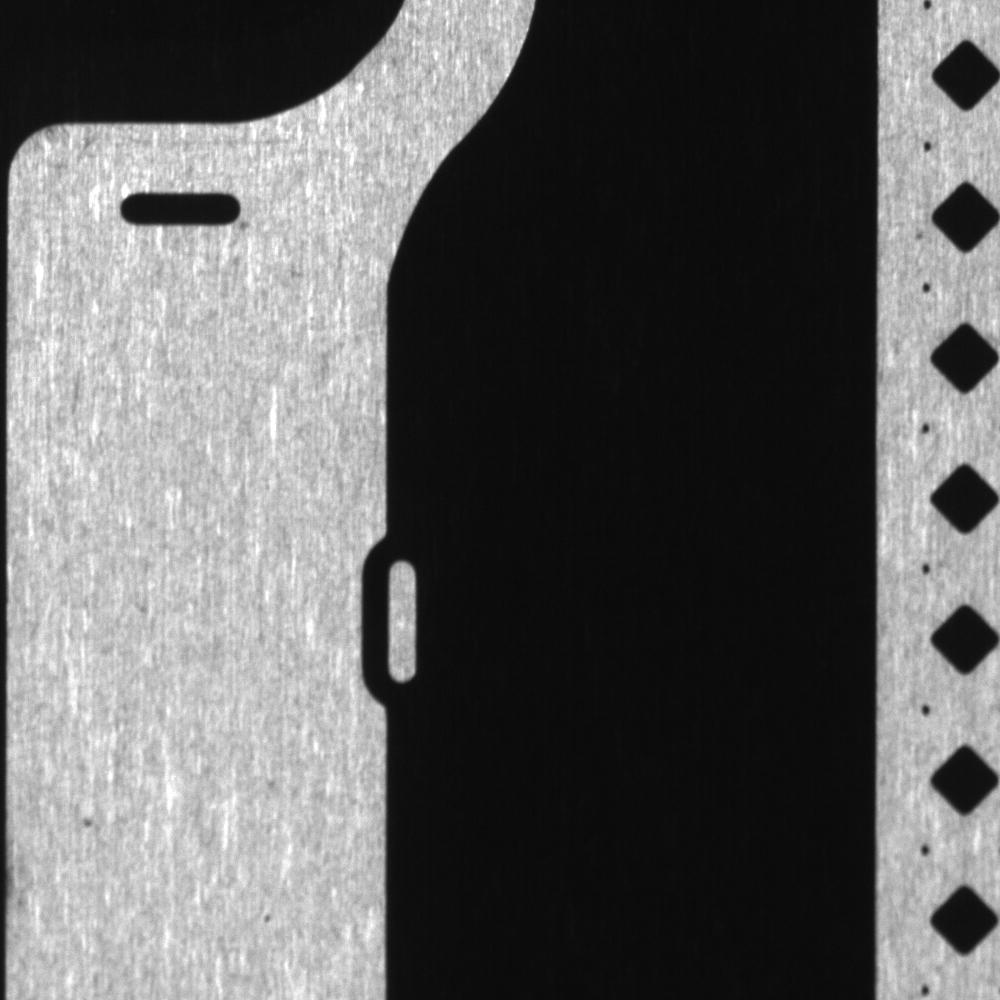Discolor: (25, 118, 170, 166)
Pinhole: (68, 800, 112, 842), (252, 900, 284, 937)
Scar: (187, 132, 312, 154)
